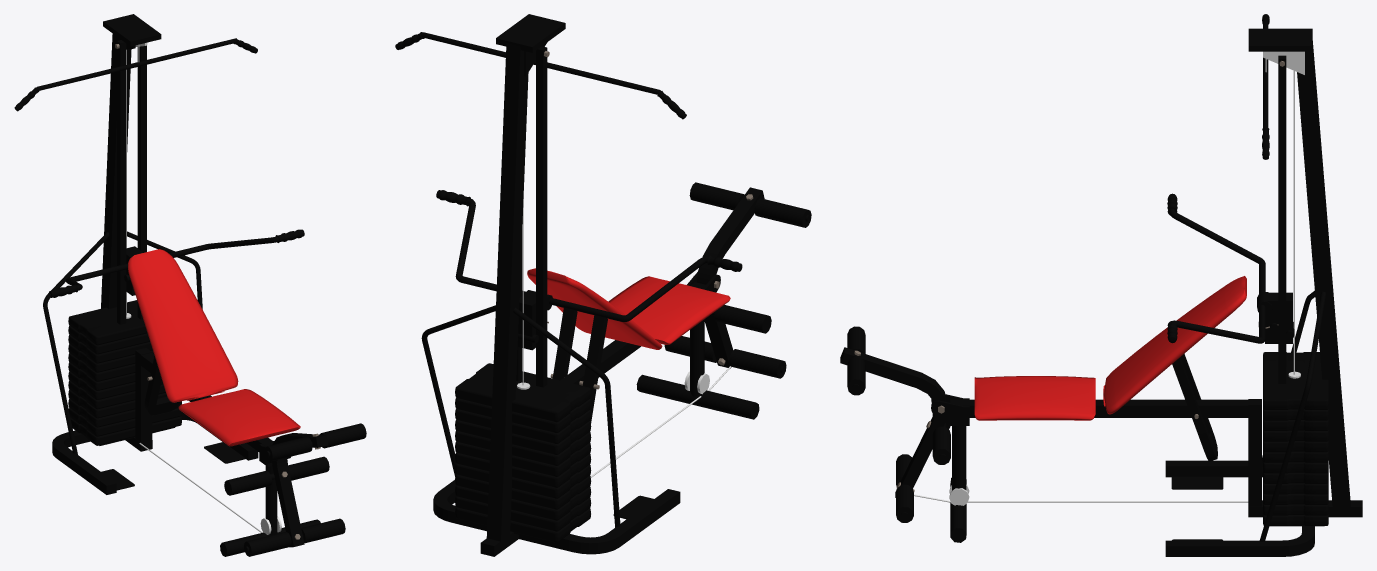
File: gym.obj
3 views of the same model, side by side, from view 1: azimuth 30°, elevation 25°; view 2: azimuth 150°, elevation 25°; view 3: azimuth 270°, elevation 25° (orthographic). The views are drawn at different scales.
Visible parts, largest first — view 1: mainframe, seatback, footbar, weight1, lowbar, HighBar, seatpole, weight2, weight3, weight4; view 2: mainframe, footbar, lowbar, weight1, seatback, seatpole, HighBar, weight3, weight2, weight4; view 3: mainframe, footbar, seatback, lowbar, weight1, seatpole, HighBar, weight2, weight4, weight3.
Boxes of the visible parts, x1,y1,x2,y2 form: mainframe: [43, 14, 320, 556]; seatback: [128, 249, 238, 402]; footbar: [224, 423, 366, 556]; weight1: [68, 300, 147, 345]; lowbar: [49, 229, 304, 297]; HighBar: [14, 38, 257, 111]; seatpole: [144, 356, 180, 415]; weight2: [68, 326, 149, 354]; weight3: [68, 335, 152, 363]; weight4: [68, 344, 153, 372]; mainframe: [421, 14, 759, 556]; footbar: [664, 182, 811, 390]; lowbar: [436, 190, 742, 350]; weight1: [455, 363, 591, 422]; seatback: [527, 268, 662, 349]; seatpole: [552, 308, 607, 423]; HighBar: [395, 32, 686, 119]; weight3: [455, 409, 591, 443]; weight2: [455, 398, 591, 433]; weight4: [455, 420, 591, 454]; mainframe: [931, 28, 1362, 556]; footbar: [840, 326, 950, 522]; seatback: [1103, 276, 1246, 414]; lowbar: [1167, 193, 1294, 343]; weight1: [1263, 352, 1328, 409]; seatpole: [1172, 353, 1217, 461]; HighBar: [1262, 14, 1269, 159]; weight2: [1263, 408, 1328, 420]; weight4: [1263, 429, 1328, 441]; weight3: [1263, 418, 1328, 430].
Bounding box in the file's own units: 1.87 × 2.93 × 2.9.
